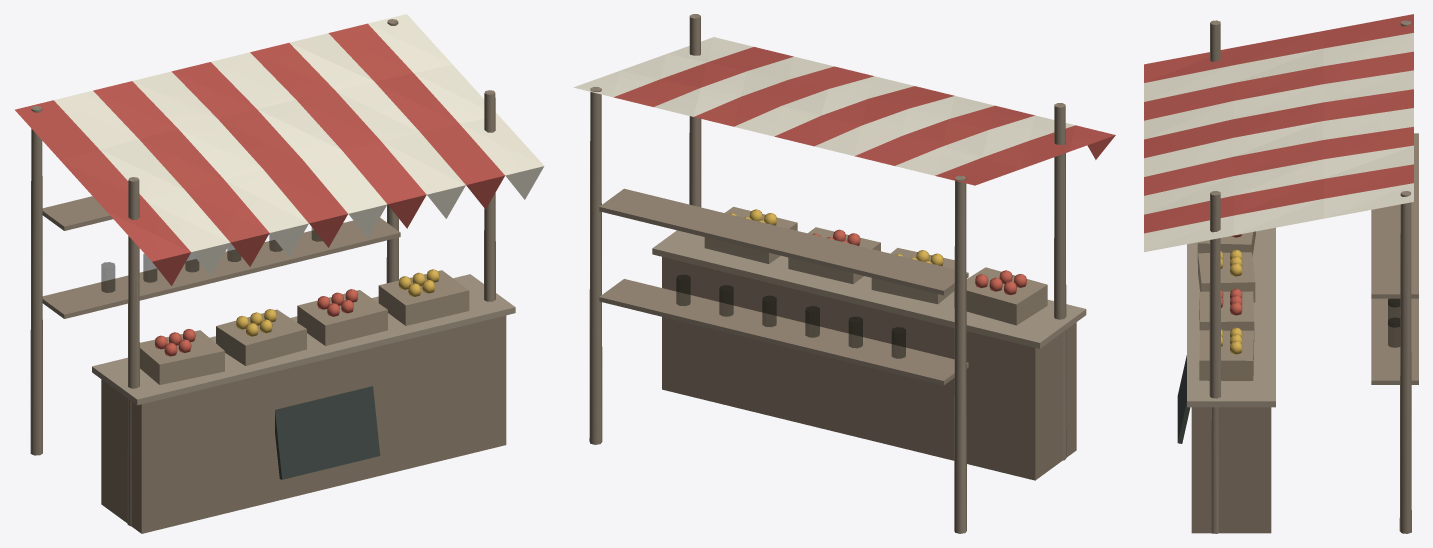
Rendered from festival_stall_a_b.glb.
3 renders of one model, left to right at view 1: azimuth 30°, elevation 25°; view 2: azimuth 150°, elevation 25°; view 3: azimuth 270°, elevation 25°, orthographic. The views are drawn at different scales.
Parts seen in each view (by area): view 1: body; view 2: body; view 3: body.
Part boxes in pixels (<box>): body: <box>15,14,544,533</box>; body: <box>573,14,1115,533</box>; body: <box>1144,14,1418,533</box>.
Size of what is drawn, in the model's own units: 2.8 by 2.35 by 1.73.
